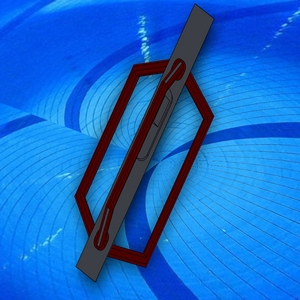submarine: (72, 1, 227, 291)
